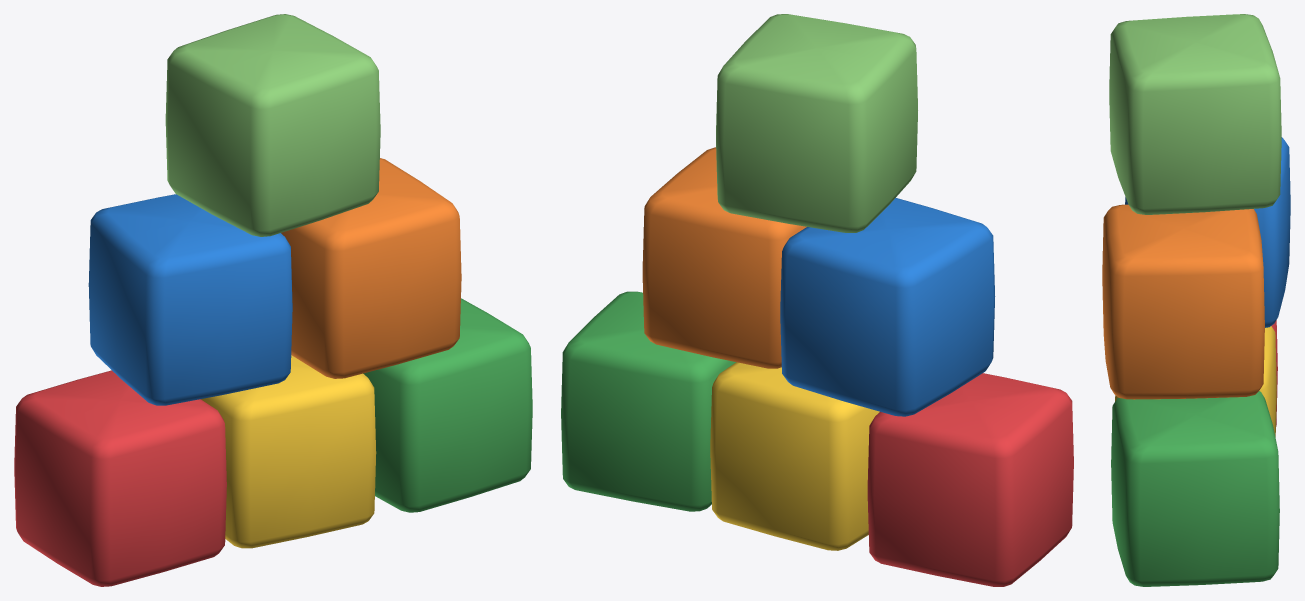
Rendered from brinquedo_blocos.glb.
3 views of the same model, side by side, from view 1: azimuth 30°, elevation 25°; view 2: azimuth 150°, elevation 25°; view 3: azimuth 270°, elevation 25° (orthographic). The views are drawn at different scales.
Visible parts, largest first — view 1: brinquedo_blocos; view 2: brinquedo_blocos; view 3: brinquedo_blocos.
Part boxes in pixels (left/top/right/bottom): brinquedo_blocos: left=14, top=14, right=532, bottom=586; brinquedo_blocos: left=561, top=14, right=1073, bottom=586; brinquedo_blocos: left=1102, top=14, right=1290, bottom=586.
Size of the model in its own units: 0.2131 by 0.207 by 0.0795.
Materials: 1 (1 with a texture image).
